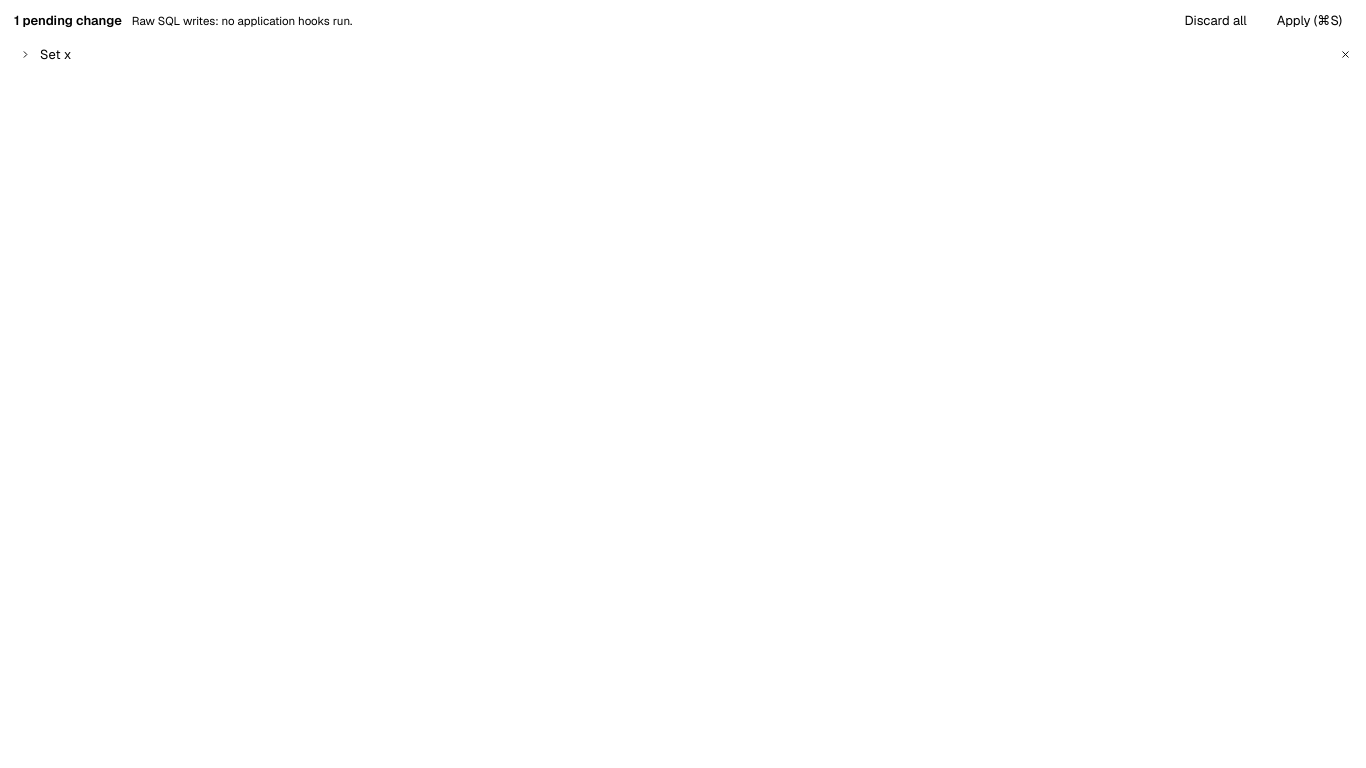
Test: PendingTray › applying › clears the tray, enables Undo and reports the count after a successful apply
Click the button "Apply (⌘S)" at x=1309, y=21, box [1267,8,1352,34]
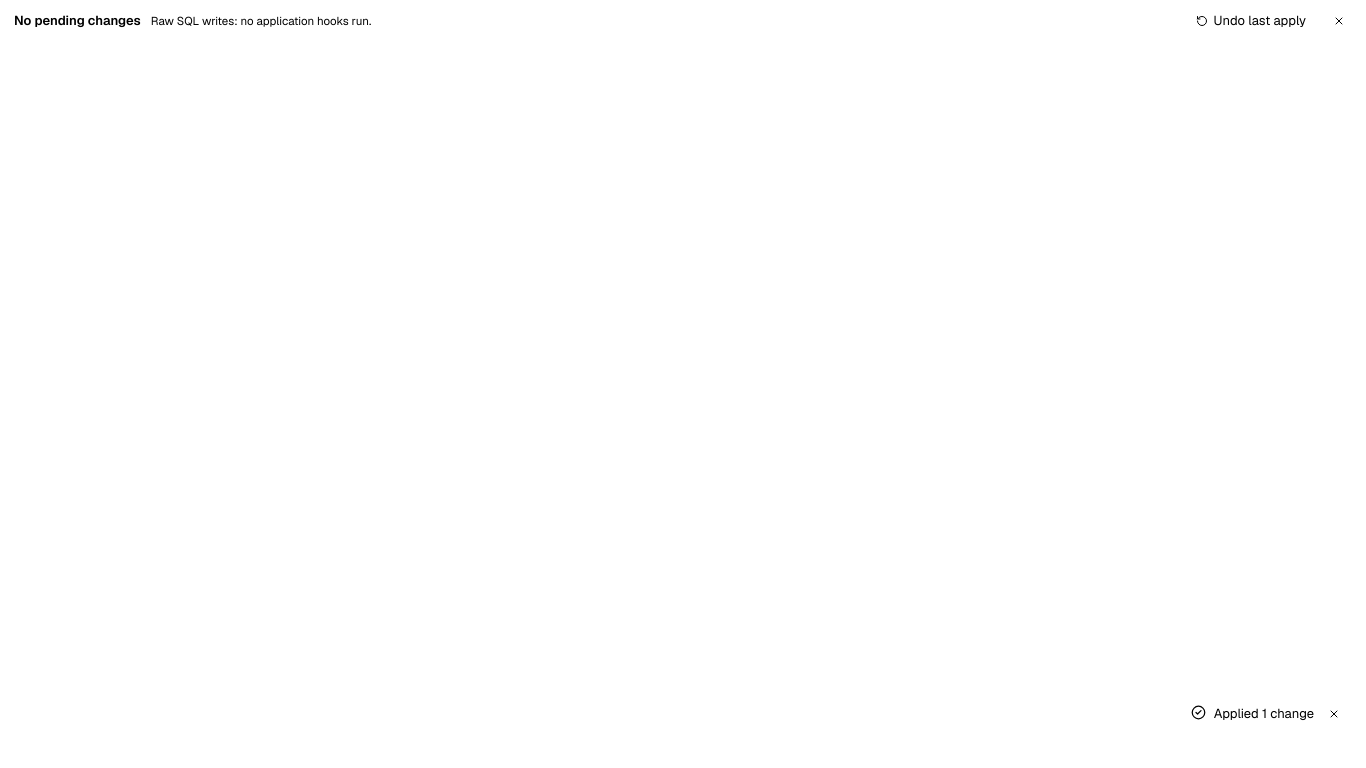
Expected: the text "No pending changes" is shown, [14,12,141,30]
Expected: the button "Undo last apply" is enabled, [1186,8,1316,34]
Expected: the message reads "Applied 1 change", [1214,705,1314,722]
